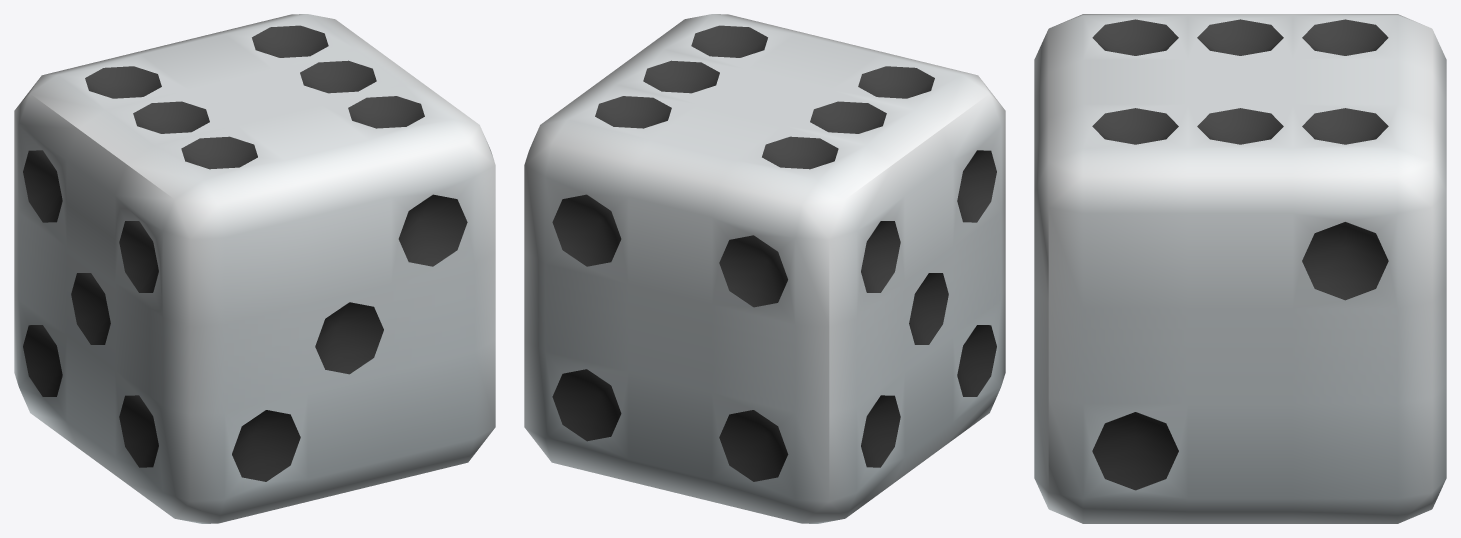
3 renders of one model, left to right at view 1: azimuth 30°, elevation 25°; view 2: azimuth 150°, elevation 25°; view 3: azimuth 270°, elevation 25°, orthographic. The views are drawn at different scales.
Parts seen in each view (by area): view 1: D6_A; view 2: D6_A; view 3: D6_A.
Part boxes in pixels (<box>): D6_A: <box>14,14,495,523</box>; D6_A: <box>524,14,1005,523</box>; D6_A: <box>1034,14,1446,523</box>.
Size of the model in its own units: 0.75 by 0.75 by 0.75.
